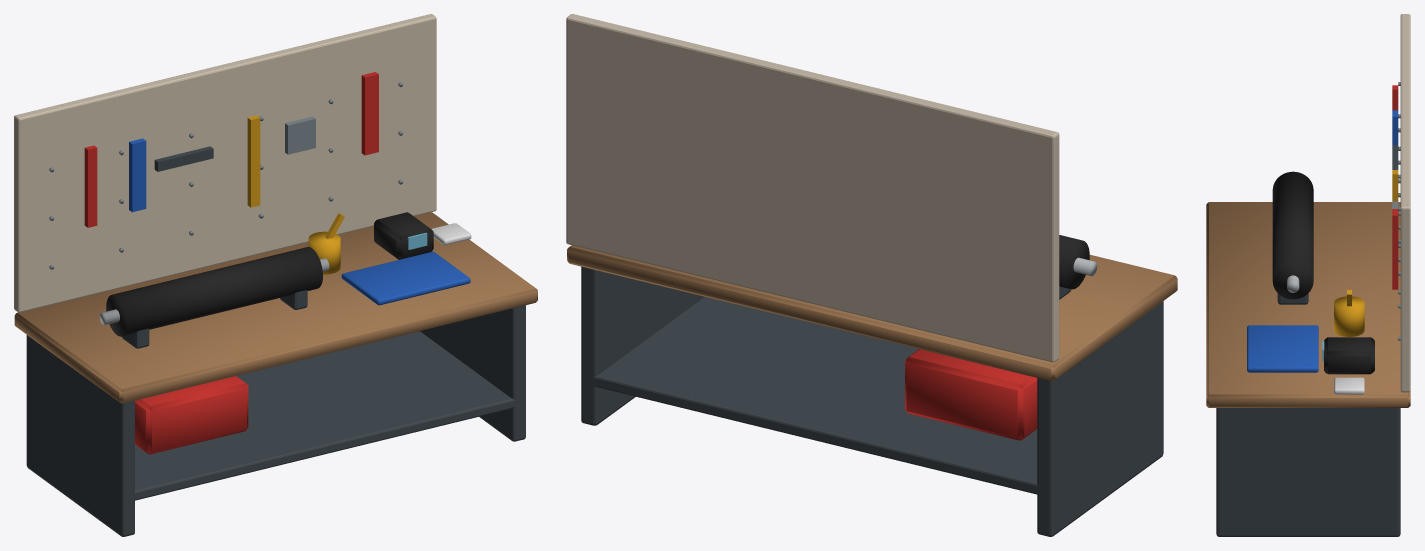
Rendered from m_maintenance.glb.
The picture shows the model from 3 angles, left to right: view 1: azimuth 30°, elevation 25°; view 2: azimuth 150°, elevation 25°; view 3: azimuth 270°, elevation 25°; orthographic projection. The views are drawn at different scales.
Parts seen in each view (by area): view 1: m_maintenance; view 2: m_maintenance; view 3: m_maintenance.
Part boxes in pixels (x1,y1,x2,y2): m_maintenance: (14, 14, 537, 536); m_maintenance: (566, 14, 1177, 536); m_maintenance: (1206, 14, 1410, 536).
Size of the model in its own units: 0.9 by 0.72 by 0.4.
